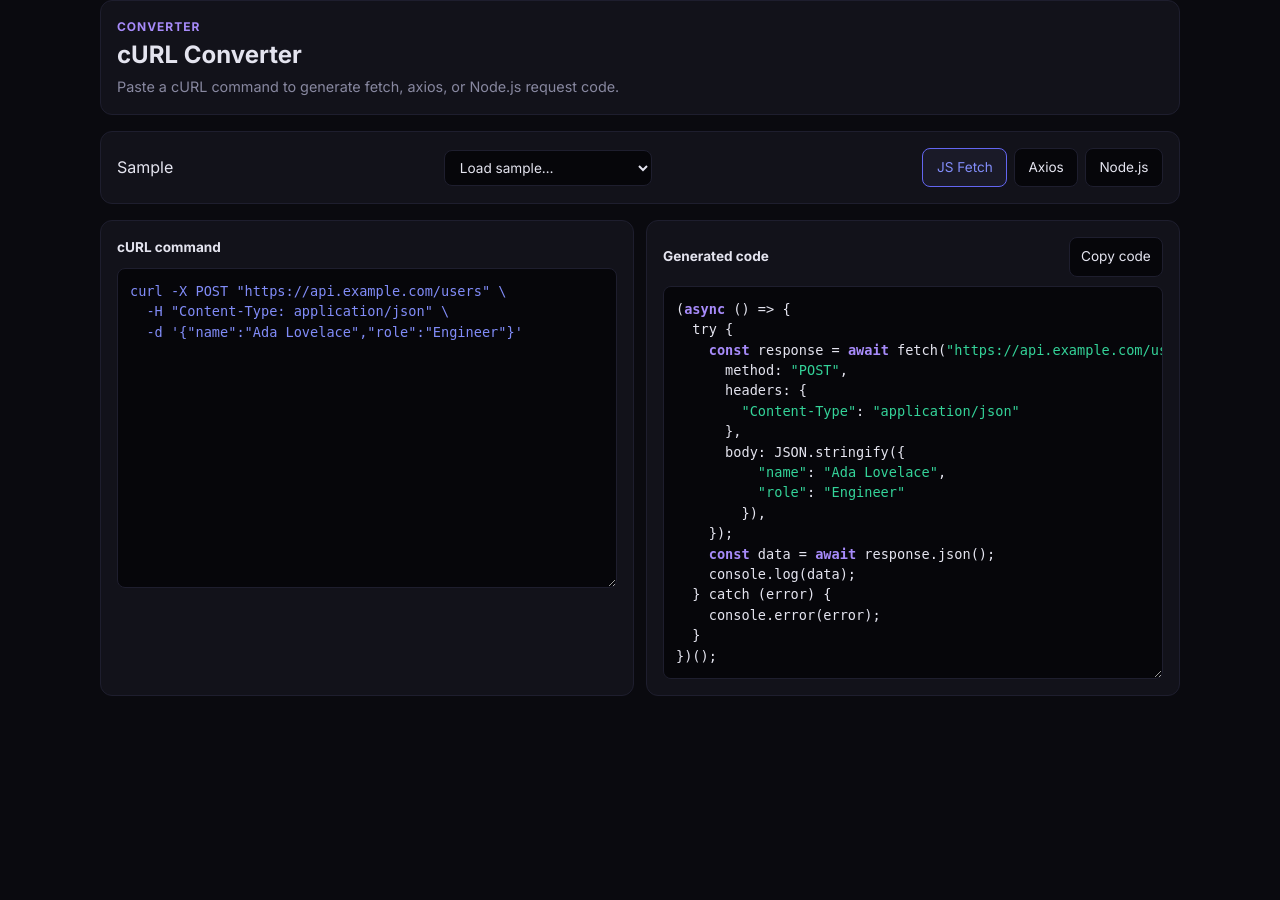
Scenario: CurlConverterTool › reports clipboard failures as alerts
Click the button with aria-label "Copy generated code to clipboard" at (1116, 257), box [1069,237,1163,277]
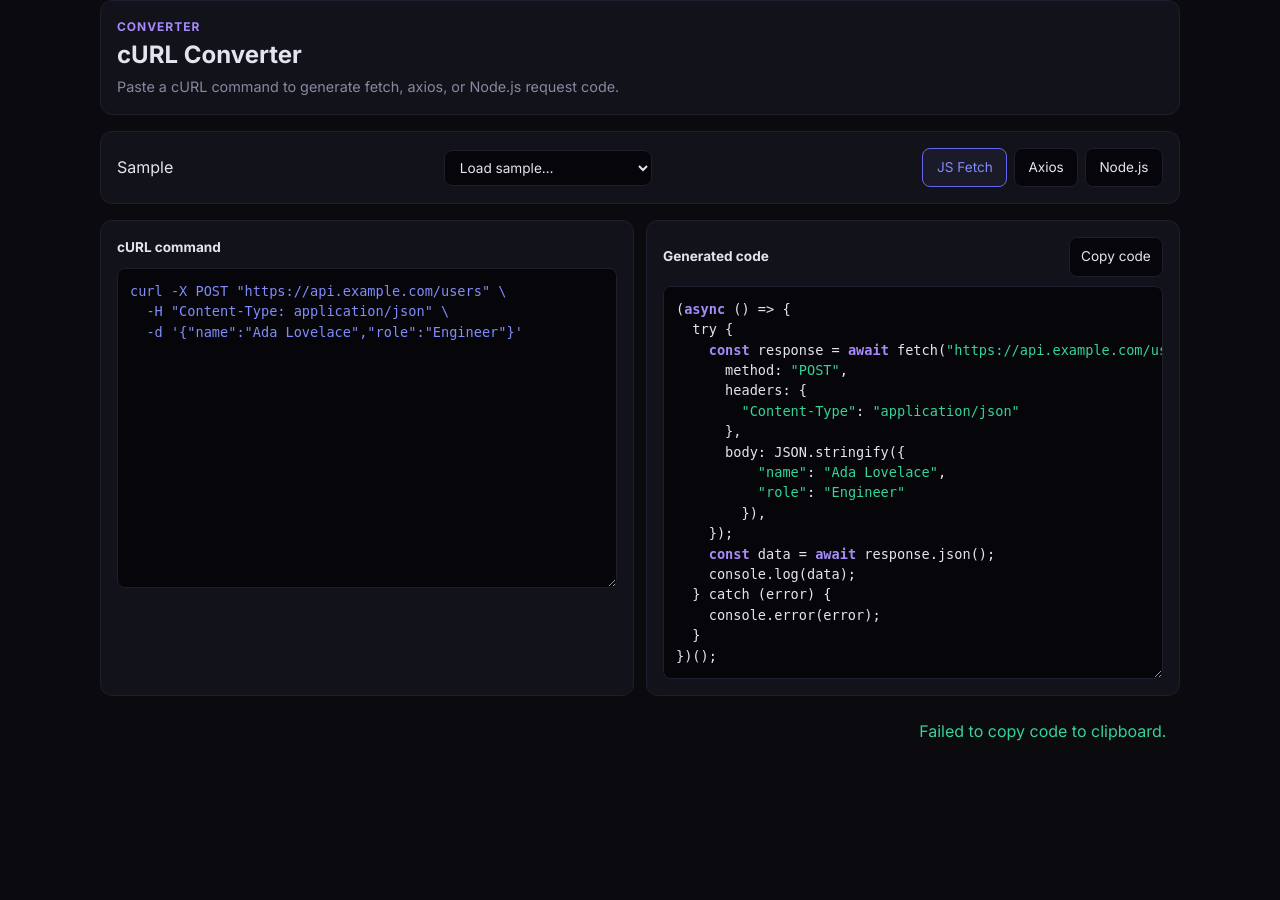
Now the message reads "Failed to copy code to clipboard.", box [919,721,1166,741]
